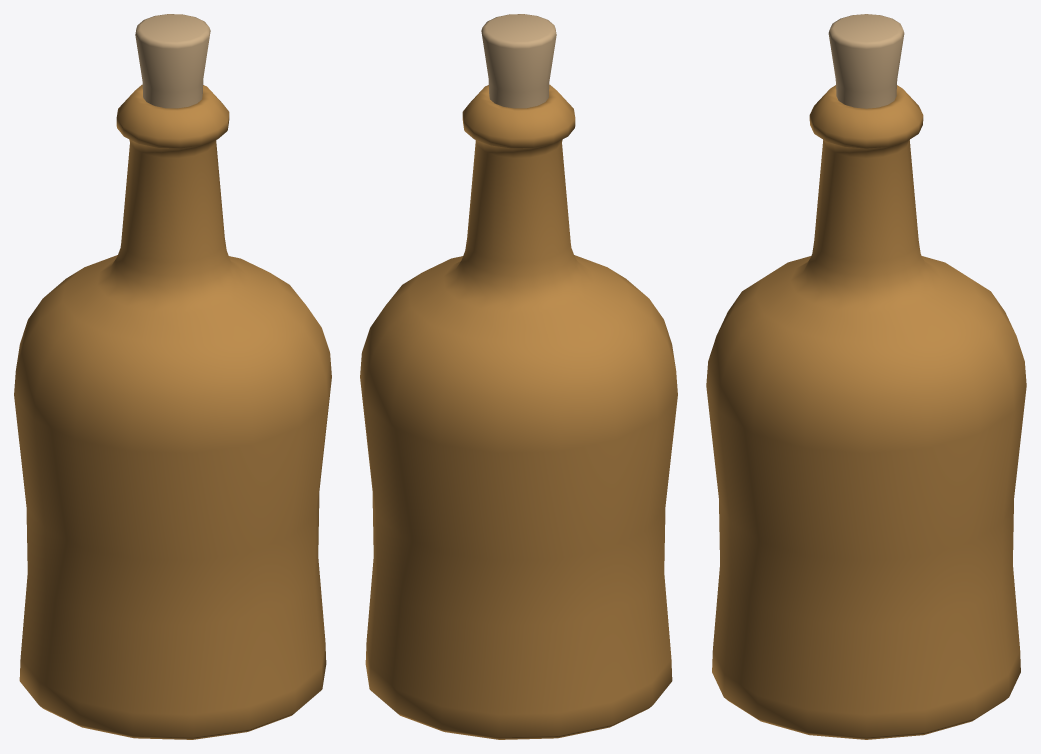
The model's file is Bottle_2.glb.
3 renders of one model, left to right at view 1: azimuth 30°, elevation 25°; view 2: azimuth 150°, elevation 25°; view 3: azimuth 270°, elevation 25°, orthographic.
Visible parts, largest first — view 1: Bottle_2_low, Bottle_cork_2_low; view 2: Bottle_2_low, Bottle_cork_2_low; view 3: Bottle_2_low, Bottle_cork_2_low.
Part boxes in pixels (left/top/right/bottom): Bottle_2_low: left=14, top=84, right=331, bottom=739; Bottle_cork_2_low: left=135, top=14, right=210, bottom=108; Bottle_2_low: left=360, top=84, right=677, bottom=739; Bottle_cork_2_low: left=481, top=14, right=556, bottom=108; Bottle_2_low: left=706, top=85, right=1026, bottom=739; Bottle_cork_2_low: left=828, top=14, right=904, bottom=108.
Bounding box in the file's own units: 0.1432 × 0.3198 × 0.1432.
